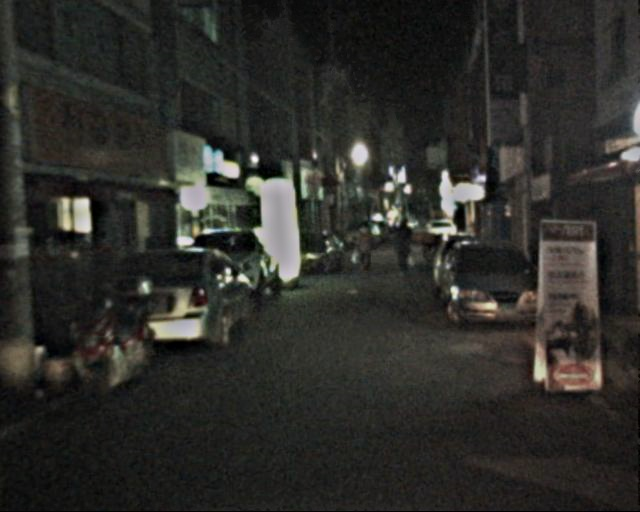person: (353, 217, 379, 281), (391, 218, 415, 277)
